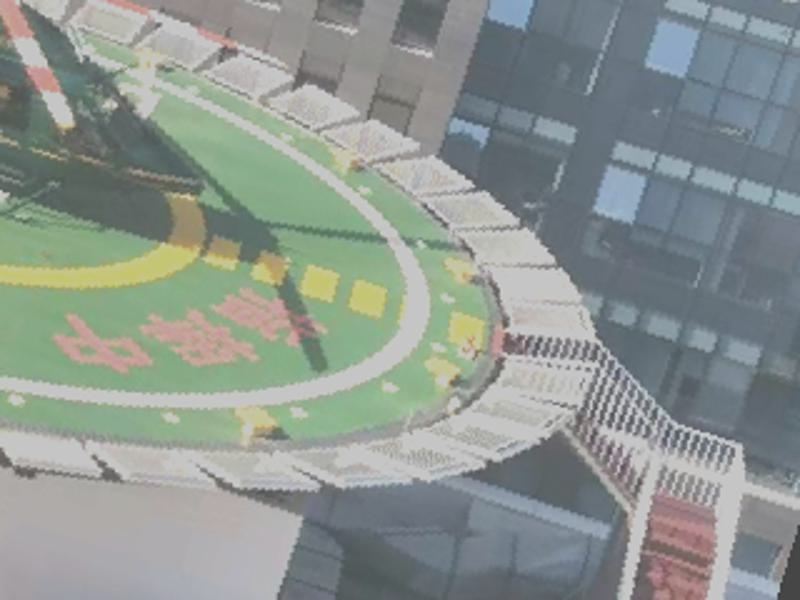Apron: (1, 1, 210, 304)
